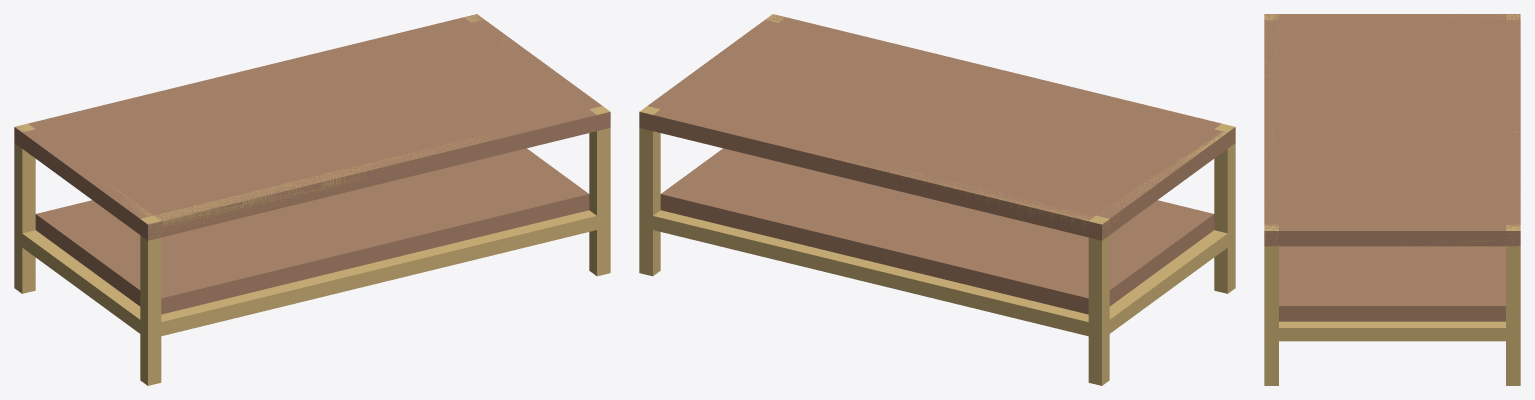
The picture shows the model from 3 angles, left to right: view 1: azimuth 30°, elevation 25°; view 2: azimuth 150°, elevation 25°; view 3: azimuth 270°, elevation 25°; orthographic projection. The views are drawn at different scales.
Visible parts, largest first — view 1: Tabletop, Shelf, Brass_Frame; view 2: Tabletop, Shelf, Brass_Frame; view 3: Tabletop, Shelf, Brass_Frame.
Part boxes in pixels (<box>): Tabletop: <box>14,14,610,240</box>; Shelf: <box>35,148,589,314</box>; Brass_Frame: <box>14,14,610,385</box>; Tabletop: <box>639,14,1235,240</box>; Shelf: <box>660,148,1214,314</box>; Brass_Frame: <box>639,14,1235,385</box>; Tabletop: <box>1264,14,1520,246</box>; Shelf: <box>1279,246,1505,321</box>; Brass_Frame: <box>1264,14,1520,385</box>.
Size of the model in its own units: 1.2 by 0.4 by 0.6.
